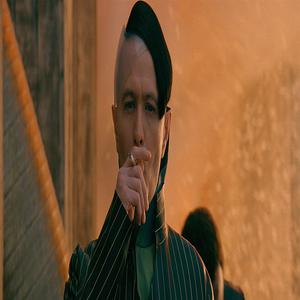cigarette: (128, 152, 137, 170)
